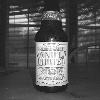beer: (36, 1, 68, 96)
